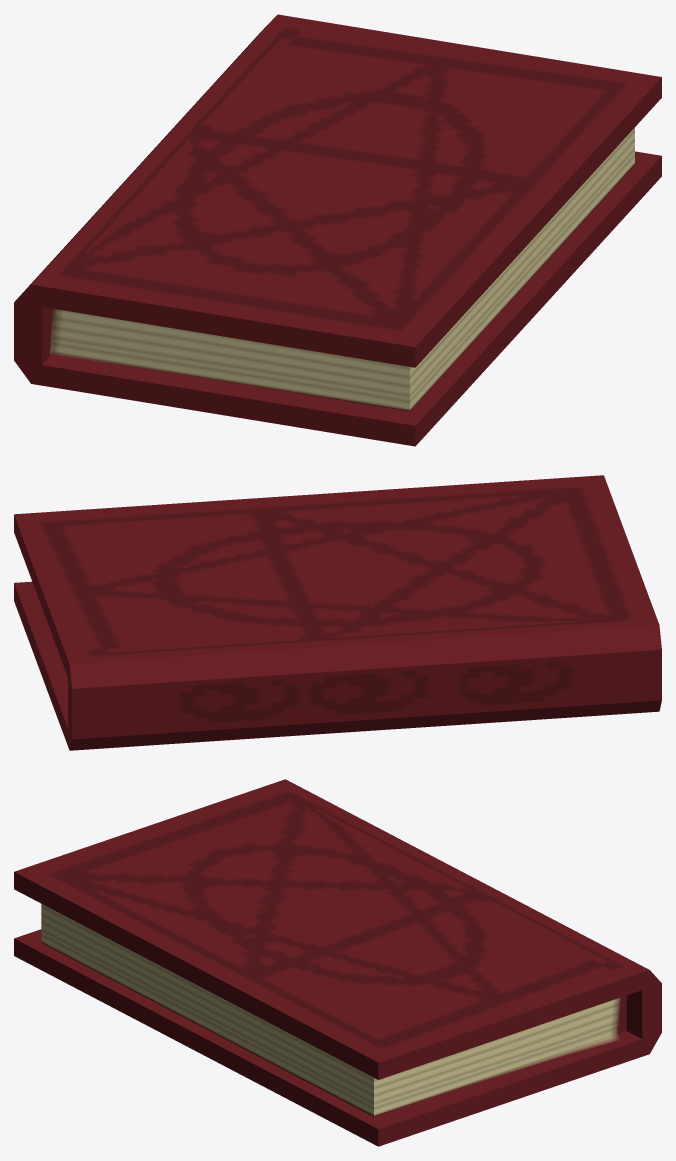
Rendered from libro.fbx.
3 views of the same model, one above another, from view 1: azimuth 30°, elevation 25°; view 2: azimuth 150°, elevation 25°; view 3: azimuth 270°, elevation 25° (orthographic). The views are drawn at different scales.
Visible parts, largest first — view 1: Cube.003; view 2: Cube.003; view 3: Cube.003.
Part boxes in pixels (x1,y1,x2,y2): Cube.003: [14, 14, 661, 446]; Cube.003: [14, 475, 661, 750]; Cube.003: [14, 779, 661, 1146].
Bounding box in the file's own units: 64.88 × 8.85 × 61.79.
1 material, 1 textured.
